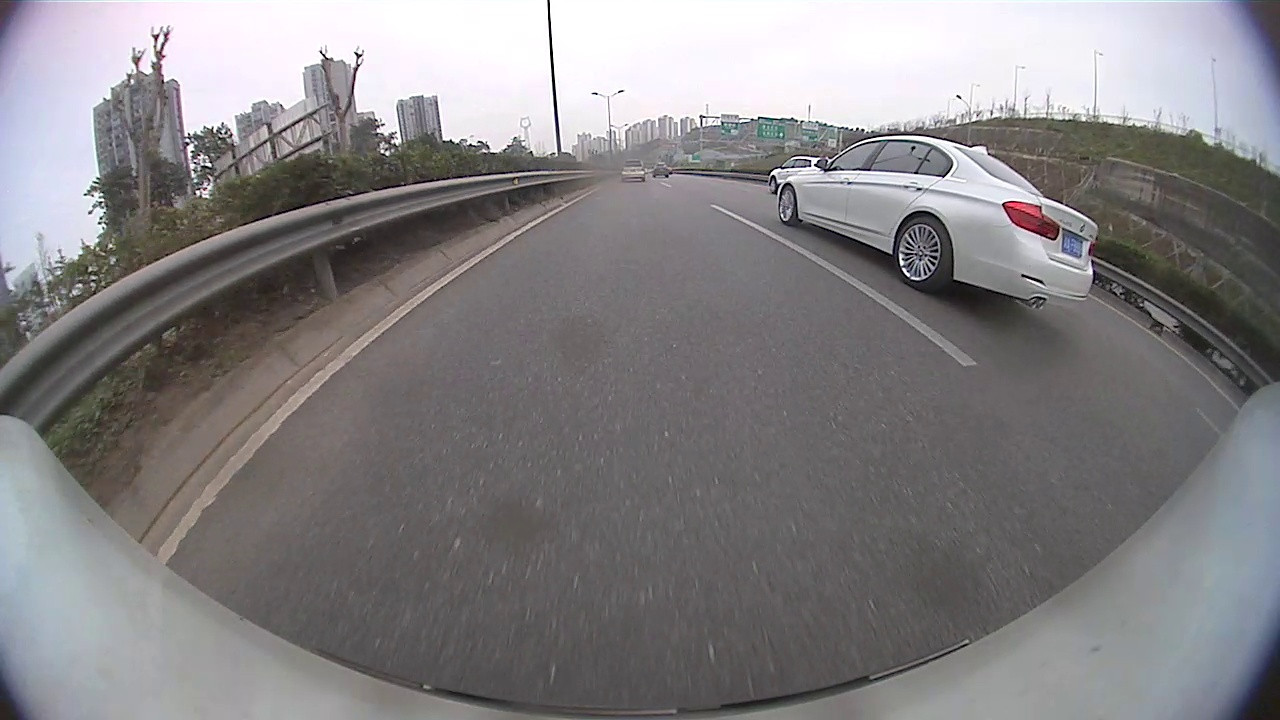car: (775, 132, 1102, 310), (766, 153, 830, 194), (619, 156, 646, 182)
front: (777, 185, 796, 227)
rear: (894, 215, 948, 295)
